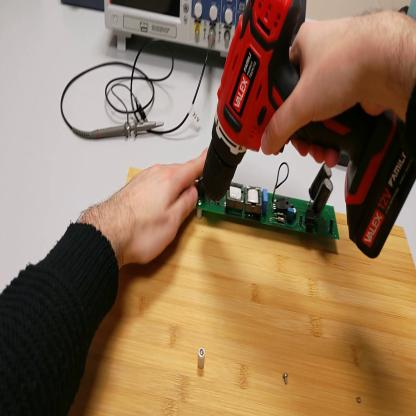electric screwdriver: (204, 1, 414, 259)
hand: (263, 3, 400, 162), (116, 156, 208, 266)
high voltage board: (197, 164, 338, 240)
oscilloscope: (104, 1, 248, 61)
oscilloscope probe tip: (86, 121, 164, 143)
socket: (62, 2, 105, 14)
working area: (72, 167, 416, 413)
